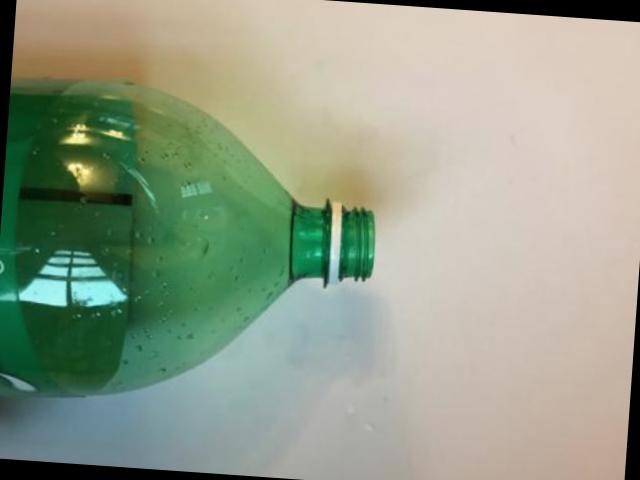plastic: (0, 83, 376, 398)
